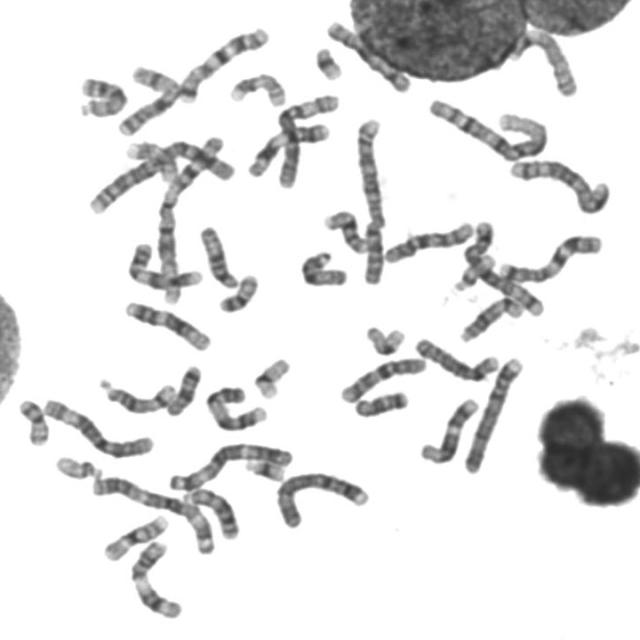A1: (152, 132, 229, 304), (423, 93, 550, 163)
A2: (84, 133, 230, 216), (350, 111, 388, 288)
A3: (86, 471, 218, 556), (166, 437, 294, 493)
B4: (459, 351, 525, 476), (270, 466, 372, 531)
B5: (460, 216, 546, 320), (505, 154, 612, 216)
C10: (335, 353, 429, 406), (378, 216, 476, 266)
C11: (244, 118, 334, 180), (126, 536, 185, 621)
C12: (119, 296, 214, 353), (415, 394, 482, 466)
C6: (38, 394, 156, 459), (270, 88, 342, 190)
C7: (173, 22, 272, 105), (495, 230, 605, 286)
C8: (506, 26, 580, 99), (410, 333, 501, 383)
C9: (123, 238, 204, 292), (201, 381, 270, 433)
D13: (178, 484, 242, 543), (74, 72, 129, 120)
D14: (455, 292, 525, 345), (94, 374, 178, 416)
D15: (195, 222, 241, 290), (295, 246, 350, 288)
E16: (98, 510, 170, 563), (319, 206, 371, 255)
E17: (122, 137, 184, 185), (225, 69, 288, 108)
E18: (161, 361, 203, 417), (349, 387, 411, 419)
F19: (249, 353, 292, 401), (361, 322, 408, 358)
F20: (214, 269, 260, 314), (13, 394, 51, 447)
G21: (310, 42, 345, 82), (239, 455, 286, 483)
G22: (448, 249, 499, 293), (50, 451, 104, 481)
